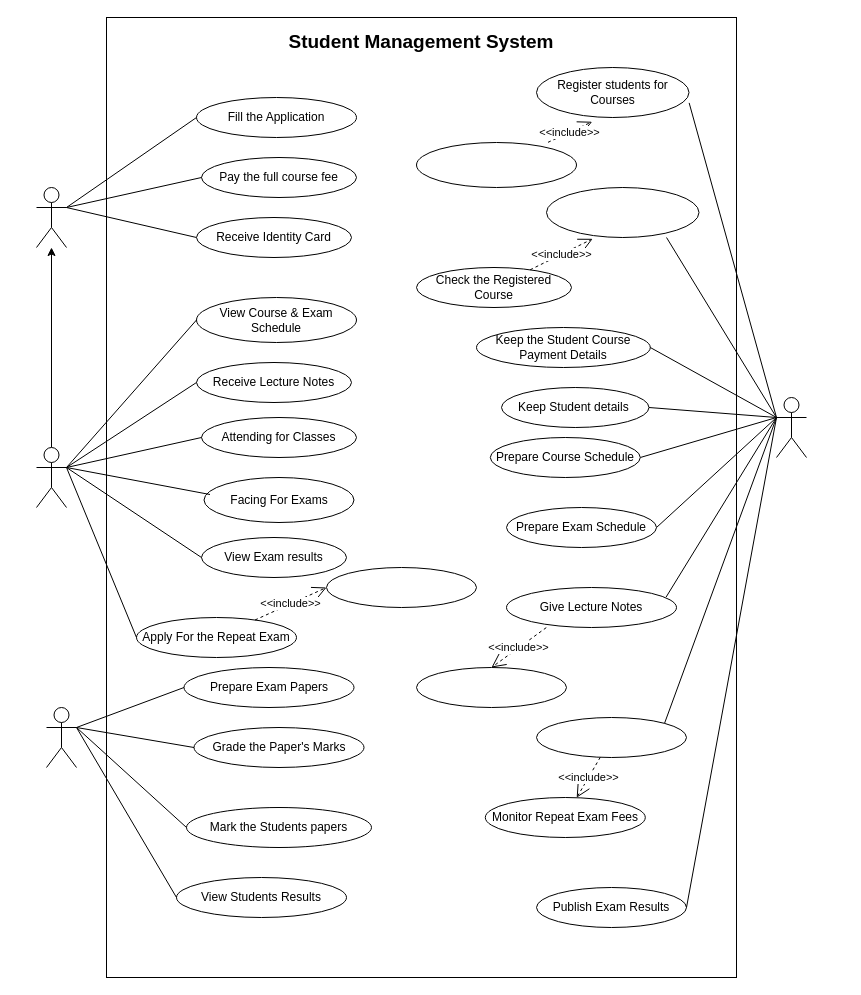
The diagram is 861 pixels wide and 995 high, and some of its shapes have lost their labels. The centre of each missing label's shape, as x and y in pixels:
Check the Student ID: (x=491, y=687)
Course Coordinator: (x=791, y=427)
Make repeat Exam Fees: (x=401, y=587)
New Student: (x=51, y=217)
Provide Related Student ID: (x=622, y=212)
Register Students to Repeat Exam: (x=611, y=737)
Review Student Application: (x=496, y=165)
Student: (x=51, y=477)
Teacher: (x=61, y=737)
